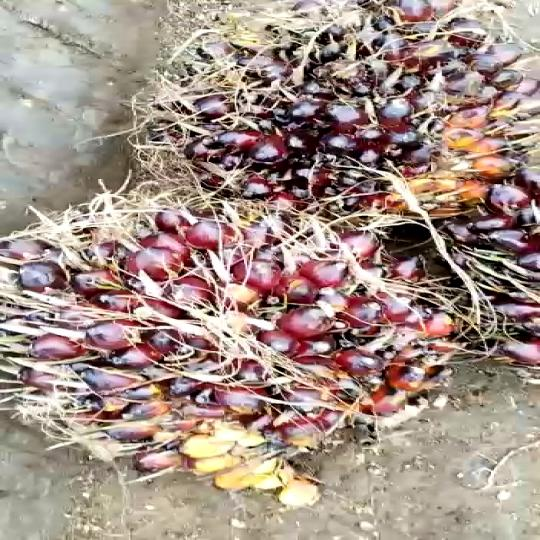mentah: (0, 190, 437, 466), (142, 9, 540, 261), (389, 168, 540, 386)
